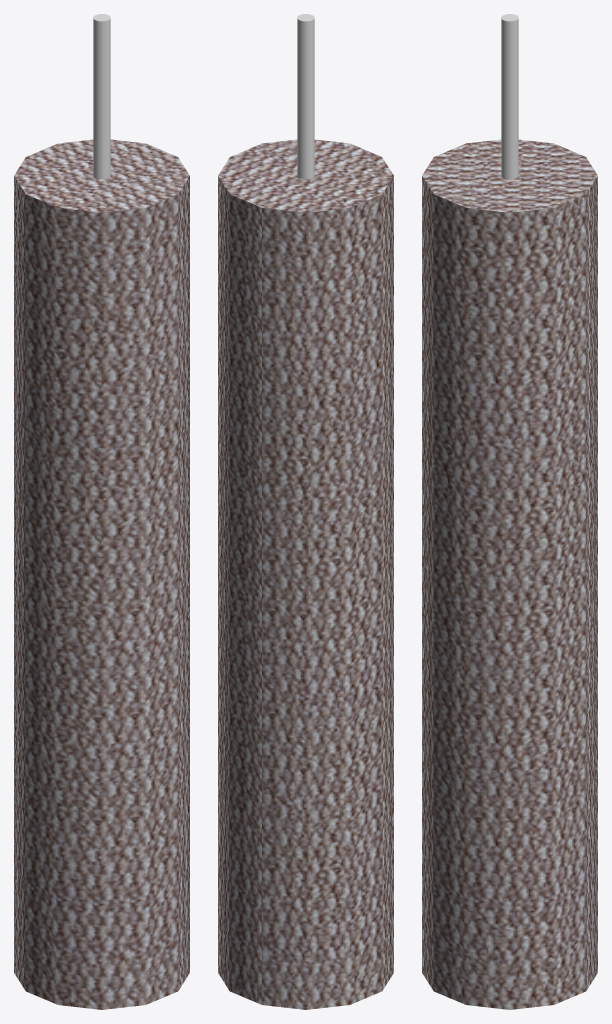
The picture shows the model from 3 angles, left to right: view 1: azimuth 30°, elevation 25°; view 2: azimuth 150°, elevation 25°; view 3: azimuth 270°, elevation 25°; orthographic projection.
Visible parts, largest first — view 1: Detail1, con1out; view 2: Detail1, con1out; view 3: Detail1, con1out.
Part boxes in pixels (x1,y1,x2,y2): Detail1: (14, 139, 189, 1009); con1out: (93, 14, 110, 179); Detail1: (218, 139, 393, 1009); con1out: (297, 14, 314, 179); Detail1: (422, 139, 597, 1009); con1out: (501, 14, 518, 179).
Size of the model in its own units: 0.1 by 0.5991 by 0.1.
Materials: 1 (1 with a texture image).
